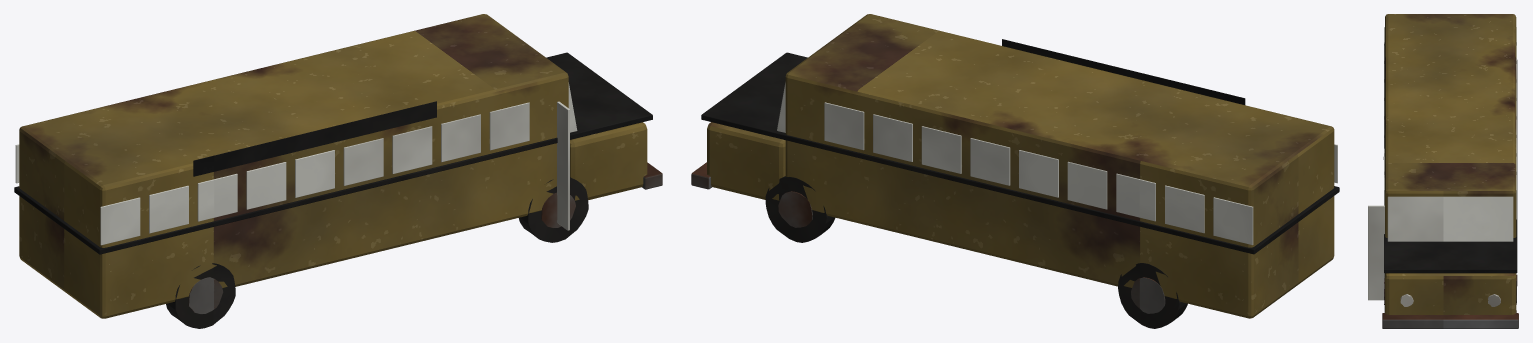
The model's file is S05_school_bus.glb.
3 renders of one model, left to right at view 1: azimuth 30°, elevation 25°; view 2: azimuth 150°, elevation 25°; view 3: azimuth 270°, elevation 25°, orthographic. The views are drawn at different scales.
Parts seen in each view (by area): view 1: S05_school_bus; view 2: S05_school_bus; view 3: S05_school_bus.
Boxes of the visible parts, x1,y1,x2,y2 form: S05_school_bus: (14, 14, 662, 328); S05_school_bus: (691, 14, 1339, 328); S05_school_bus: (1368, 14, 1518, 328).
Size of the model in its own units: 9 by 2.61 by 2.69.
7 materials, 7 textured.
